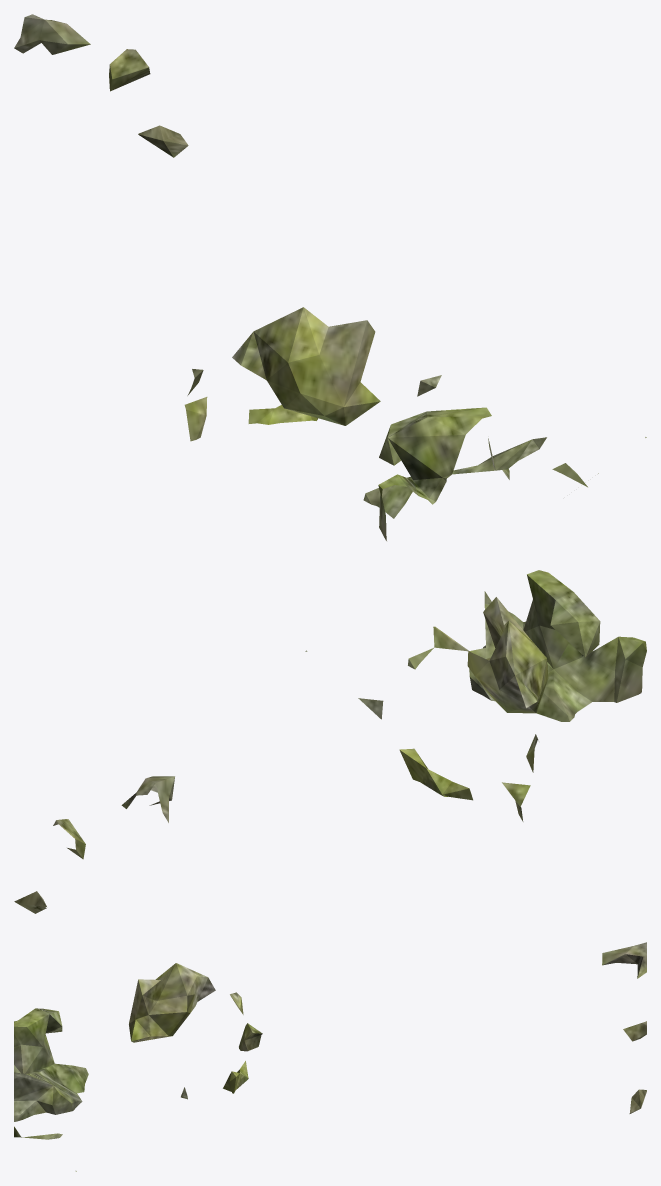
3 renders of one model, top to bottom at view 1: azimuth 30°, elevation 25°; view 2: azimuth 150°, elevation 25°; view 3: azimuth 270°, elevation 25°, orthographic. The views are drawn at different scales.
Size of the model in its own units: 2.75 by 1.49 by 5.9.
Materials: 1 (1 with a texture image).
